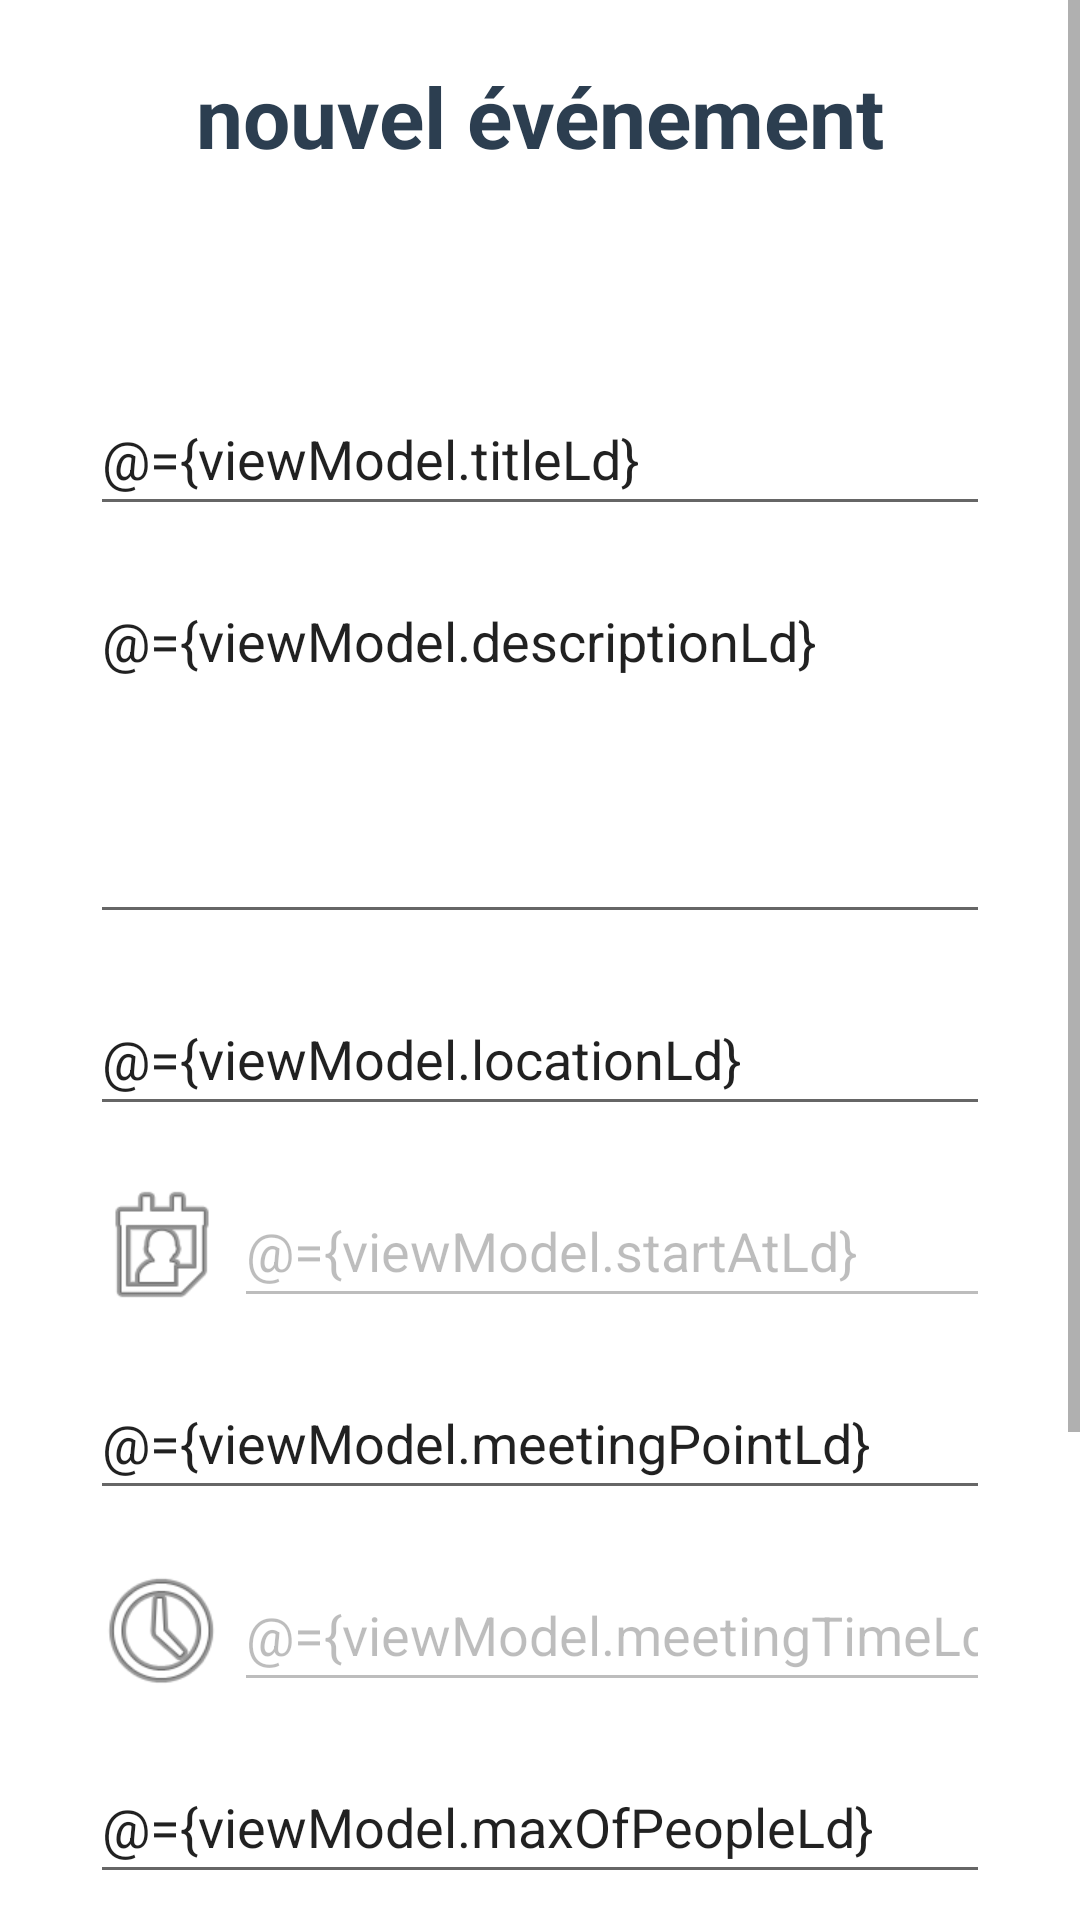

Where icons sit on this 1080*1920 app screen, as (x1, y1, x2, y2):
calendar: (115, 1192, 209, 1297)
clock: (109, 1579, 214, 1683)
